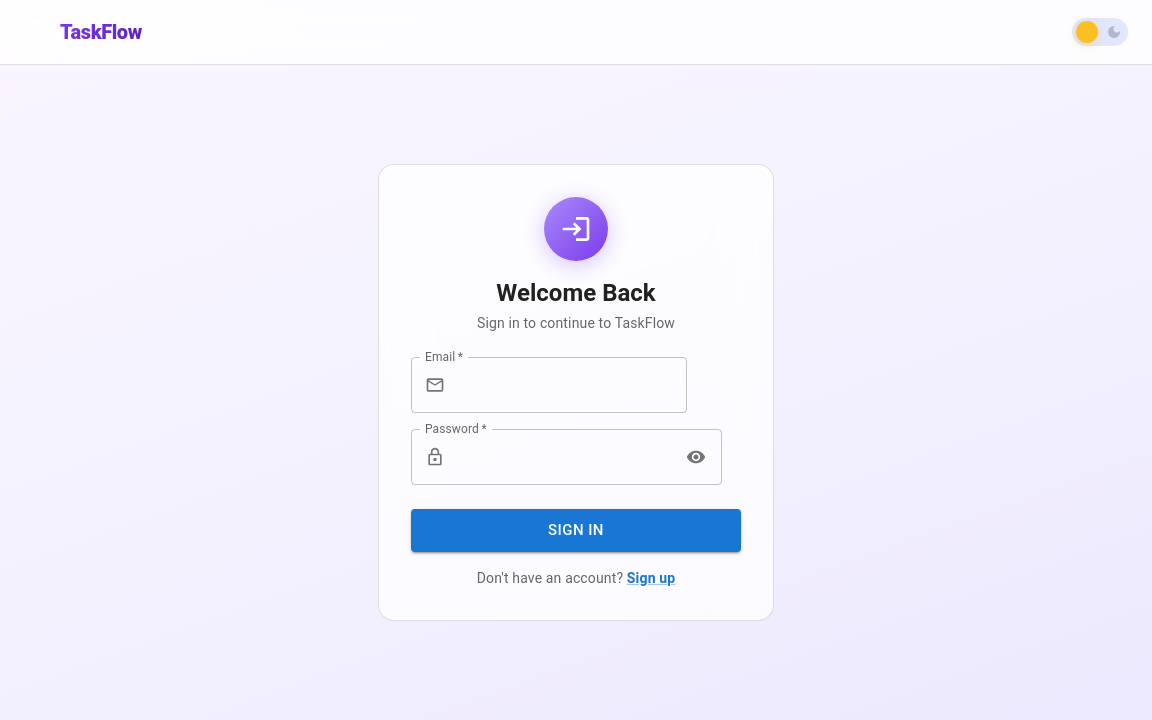
Test: LoginPage › shows error on login failure
Type "test@test.com" into the field labelled "Email *" at (570, 385), box [453,357,687,413]
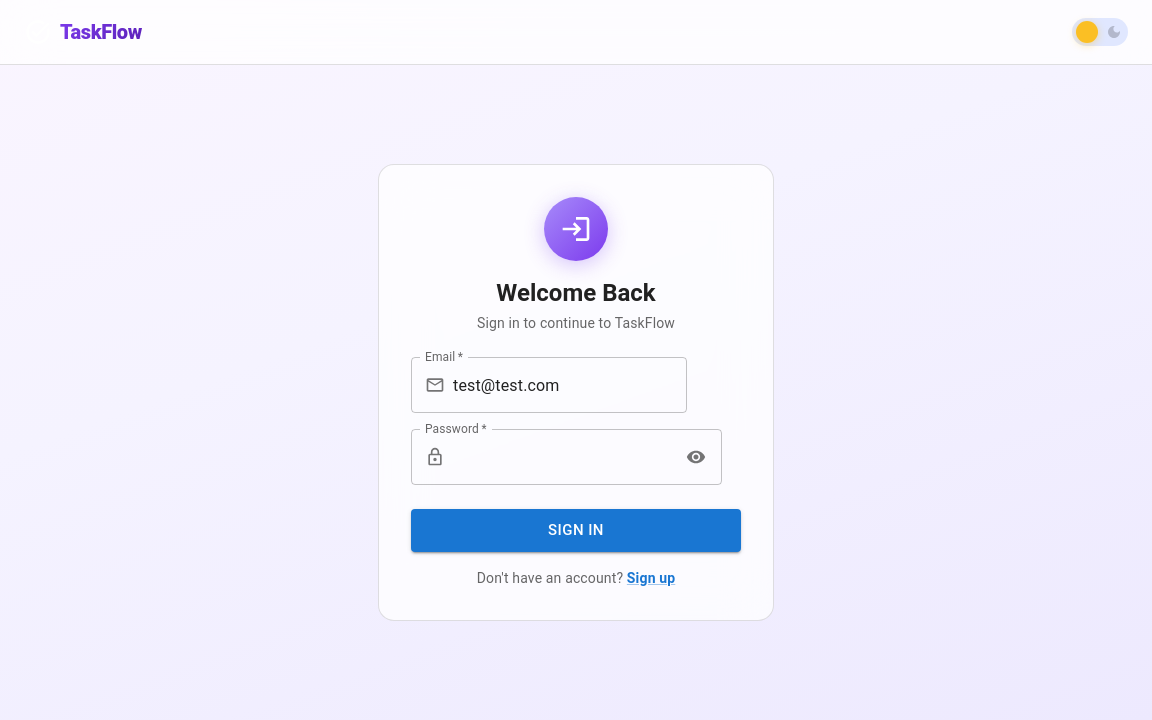
Type "wrong" into the password field labelled "Password *" at (563, 457), box [453,429,673,485]
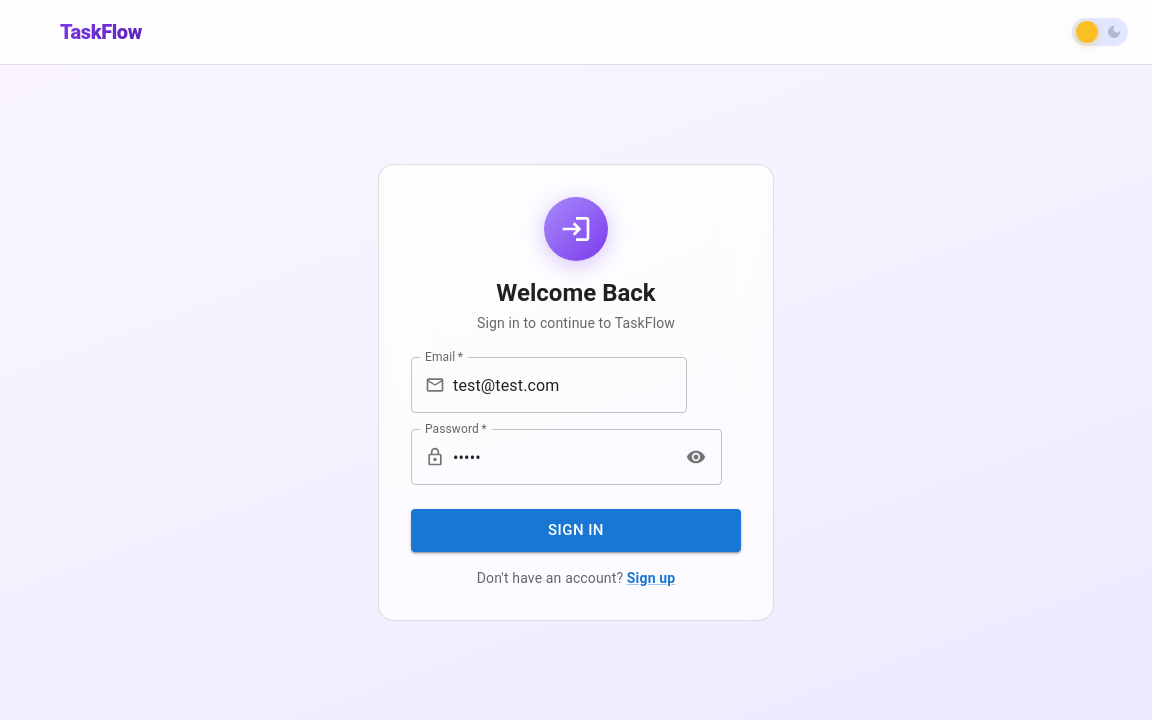
Click the button "Sign In" at (576, 531), box [411,509,741,552]
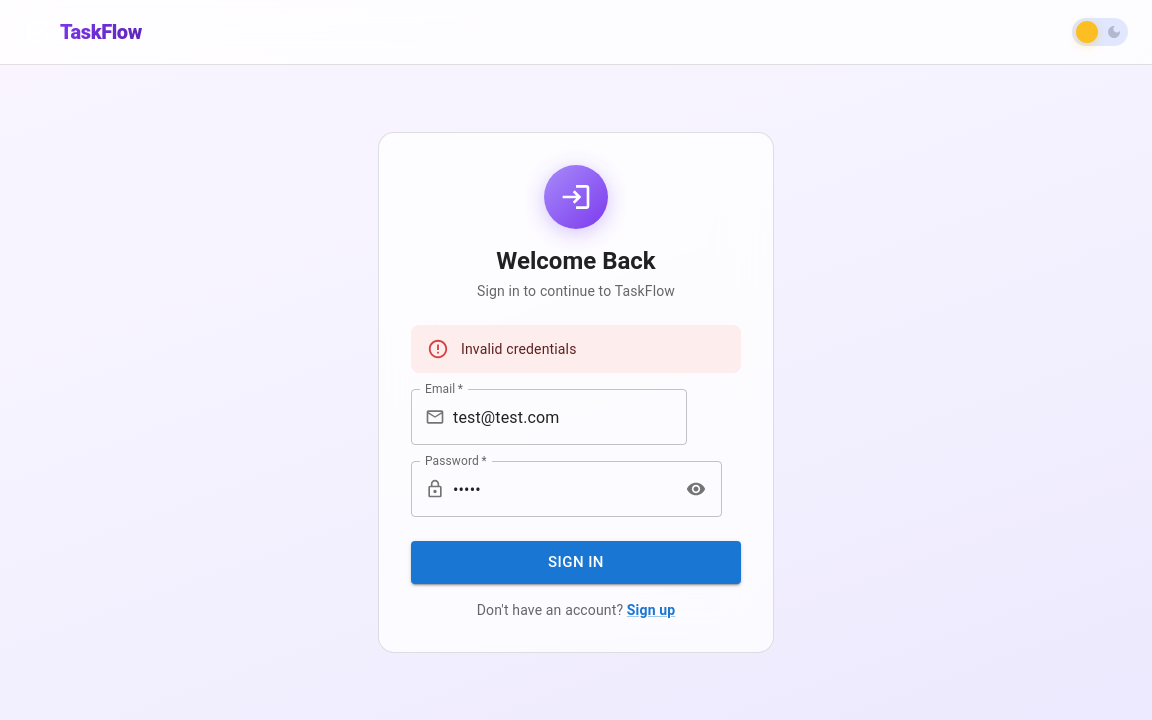
Now the text "Invalid credentials" is shown, box [461,341,576,357]
